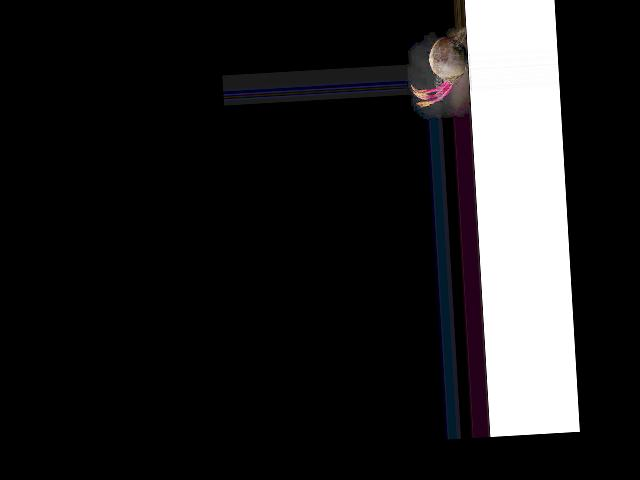beet: (408, 25, 470, 107)
